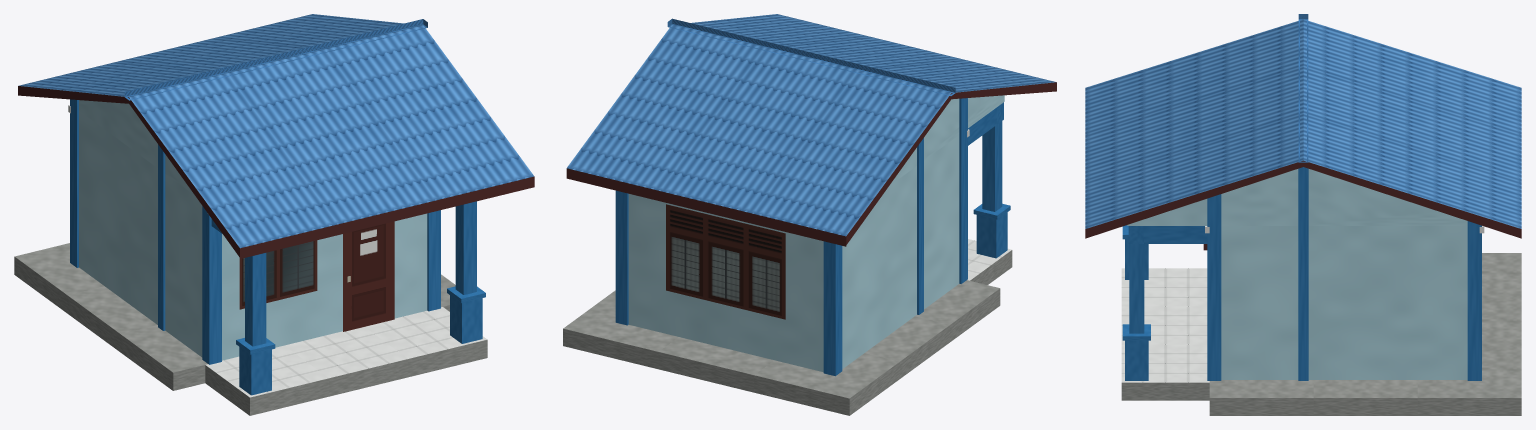
The model's file is ruangan_pmr_uks_web.glb.
The picture shows the model from 3 angles, left to right: view 1: azimuth 30°, elevation 25°; view 2: azimuth 150°, elevation 25°; view 3: azimuth 270°, elevation 25°; orthographic projection. The views are drawn at different scales.
Visible parts, largest first — view 1: Ruangan_PMR_UKS; view 2: Ruangan_PMR_UKS; view 3: Ruangan_PMR_UKS.
Part boxes in pixels (x1,y1,x2,y2): Ruangan_PMR_UKS: [14, 14, 534, 415]; Ruangan_PMR_UKS: [563, 14, 1056, 415]; Ruangan_PMR_UKS: [1085, 14, 1521, 415].
Bounding box in the file's own units: 5.84 × 4.85 × 7.44.
1 material, 1 textured.
